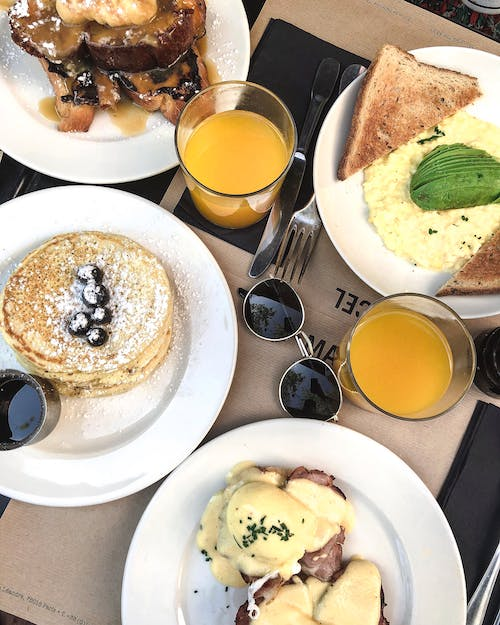knife: (245, 53, 341, 281)
